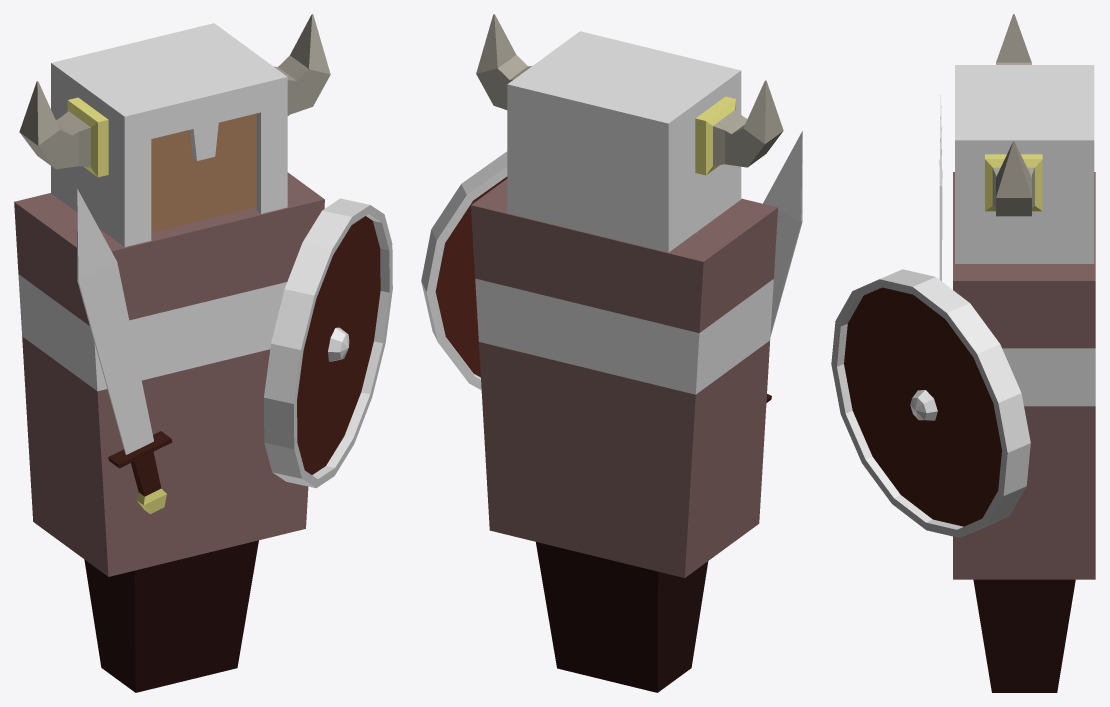
File: warrior_new_variant1.fbx
3 views of the same model, side by side, from view 1: azimuth 30°, elevation 25°; view 2: azimuth 150°, elevation 25°; view 3: azimuth 270°, elevation 25° (orthographic). The views are drawn at different scales.
Visible parts, largest first — view 1: Warrior; view 2: Warrior; view 3: Warrior.
Boxes of the visible parts, x1=… form: Warrior: x1=14, y1=14, x2=392, y2=692; Warrior: x1=421, y1=14, x2=802, y2=692; Warrior: x1=831, y1=14, x2=1095, y2=692.
Bounding box in the file's own units: 0.9095 × 1.5 × 0.6089.
